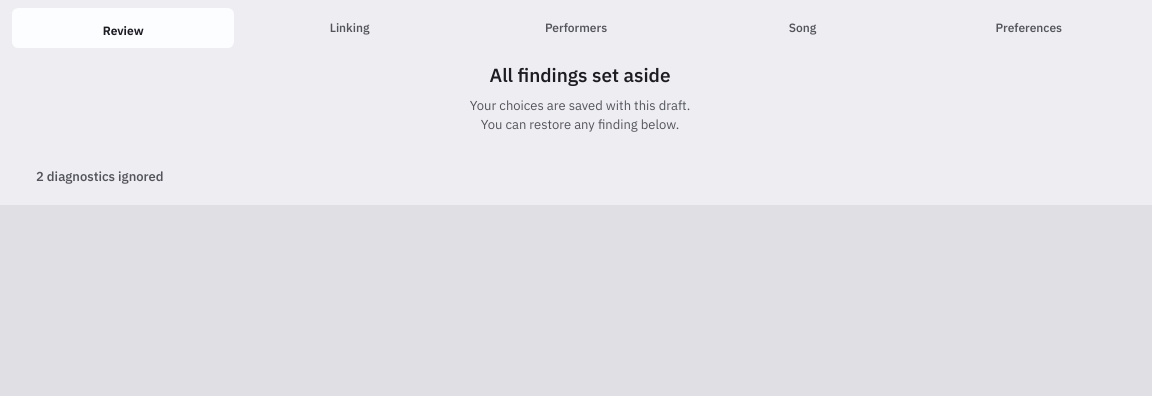
Test: RightPanel › names the flagged text on each ignored occurrence
The image size is (1152, 396).
Click the button "2 diagnostics ignored".
click(100, 176)  # box [28,159,1132,195]
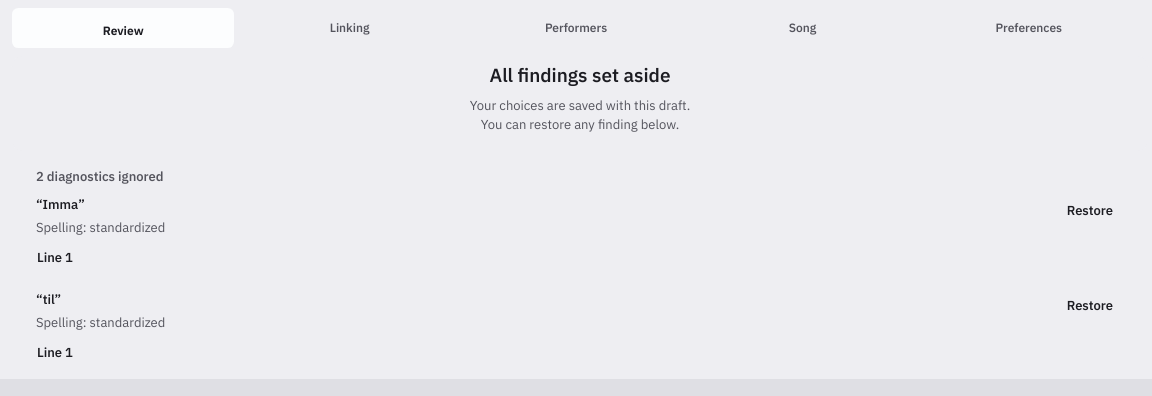
Expected: the element with class "ignored-rules__title" does not show "“til”"
Expected: the text with class "ignored-rules__title" reads "“Imma”", [36,196,85,213]
Expected: the text with class "ignored-rules__title" reads "“til”", [36,291,61,308]
